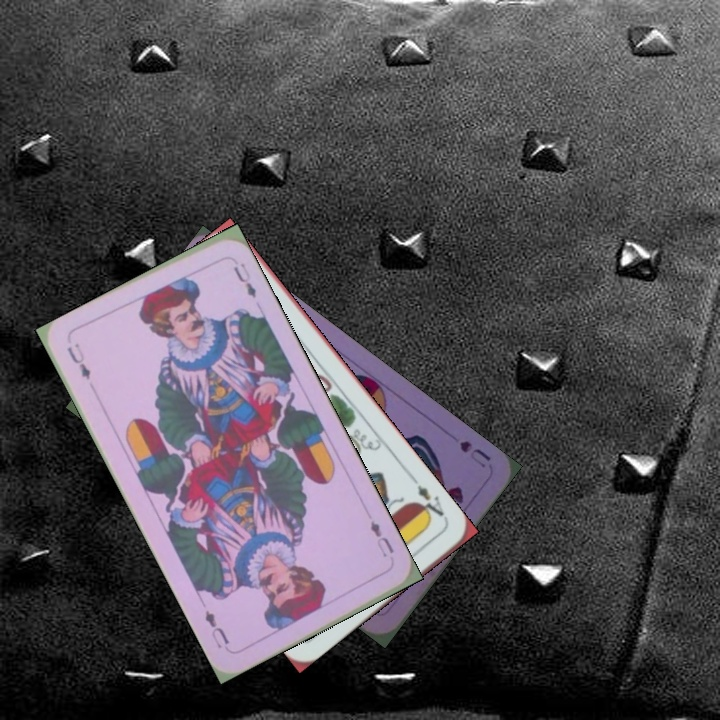EA: (410, 480, 451, 525)
EU: (366, 516, 397, 560), (63, 339, 94, 382)
SU: (455, 436, 494, 470)
